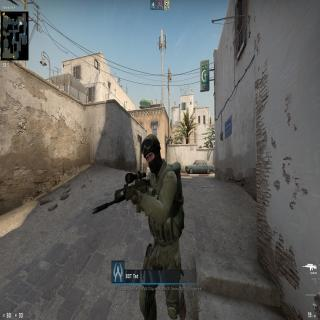CT-Head: (140, 133, 162, 174)
